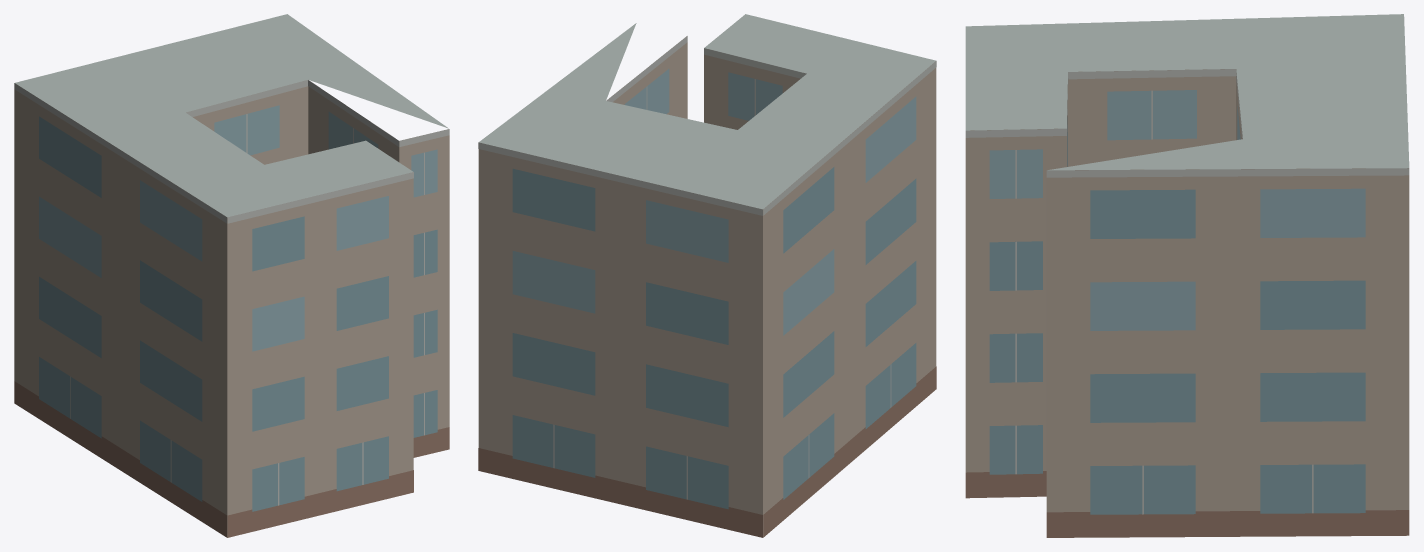
The model's file is survey-upis-32905294.glb.
3 renders of one model, left to right at view 1: azimuth 30°, elevation 25°; view 2: azimuth 150°, elevation 25°; view 3: azimuth 270°, elevation 25°, orthographic. The views are drawn at different scales.
Parts seen in each view (by area): view 1: survey-upis-32905294.tmp; view 2: survey-upis-32905294.tmp; view 3: survey-upis-32905294.tmp.
Part boxes in pixels (<box>): survey-upis-32905294.tmp: <box>14,14,449,537</box>; survey-upis-32905294.tmp: <box>478,14,936,537</box>; survey-upis-32905294.tmp: <box>965,14,1409,537</box>.
Size of the model in its own units: 11.13 by 12.2 by 13.36.
